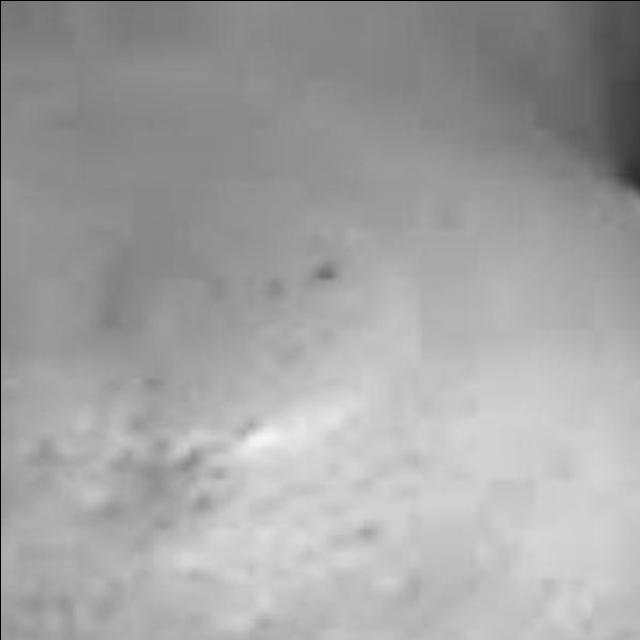nodule: (90, 189, 436, 483)
